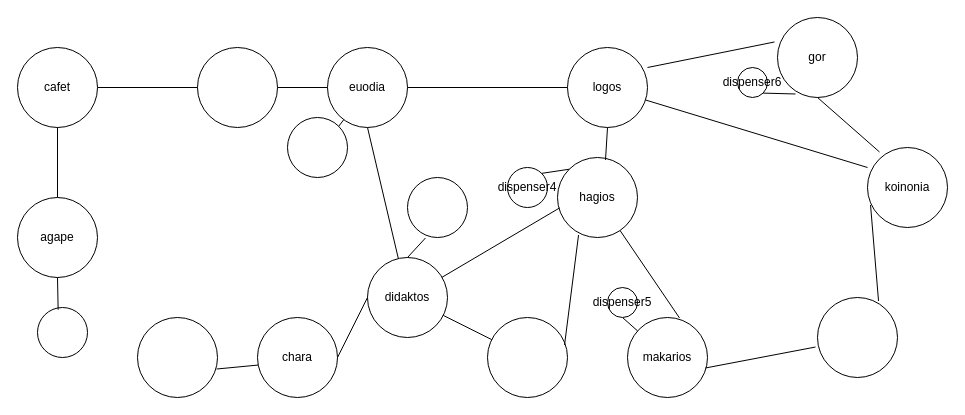
The diagram is 965 pixels wide and 415 high, and some of its shapes have lost their labels. Each missing label, with the centre of its shape:
"biblos" goes at pixel 177 357.
"dispenser1" goes at pixel 62 332.
"dispenser2" goes at pixel 317 147.
"dispenser3" goes at pixel 437 207.
"filia" goes at pixel 237 87.
"gnosis" goes at pixel 527 357.
"iama" goes at pixel 857 337.
